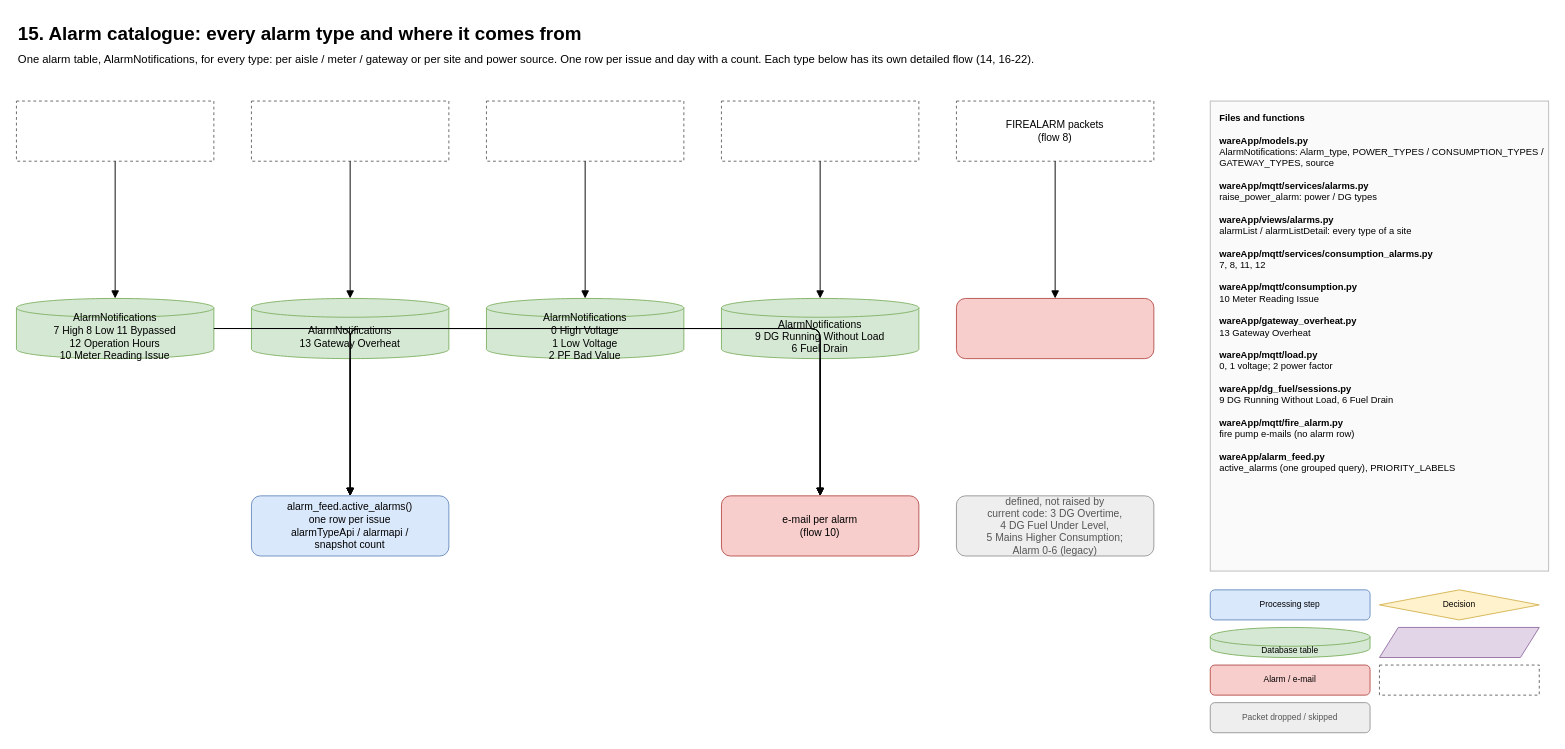
This 1565x749 diagram has some shape labels left out. Here are the shapes that lost their labels. From the top down, the centre of each, then its label:
the point at 115,130: consumption packets + day change (flows 2, 9)
the point at 350,130: gateway HTTP /api/temp/dispatch/mail/
the point at 585,130: load packets (flow 7)
the point at 820,130: fetch-fuel-data (DG runs, every 5 min)
the point at 1055,328: no alarm row: Email_History + customer e-mail
the point at 1459,642: RabbitMQ queue / MQTT topic
the point at 1459,679: External: gateway, broker, timer
